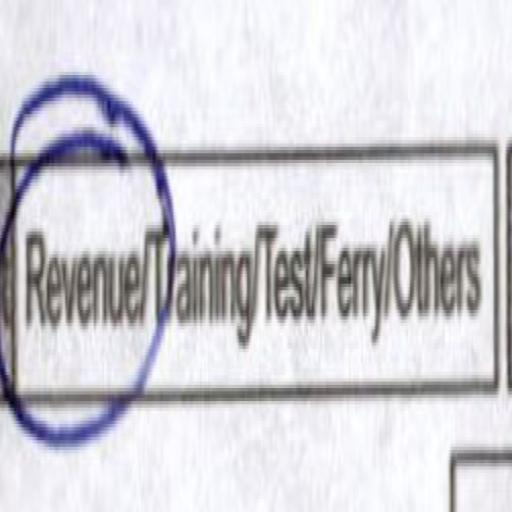check: (15, 37, 144, 473)
